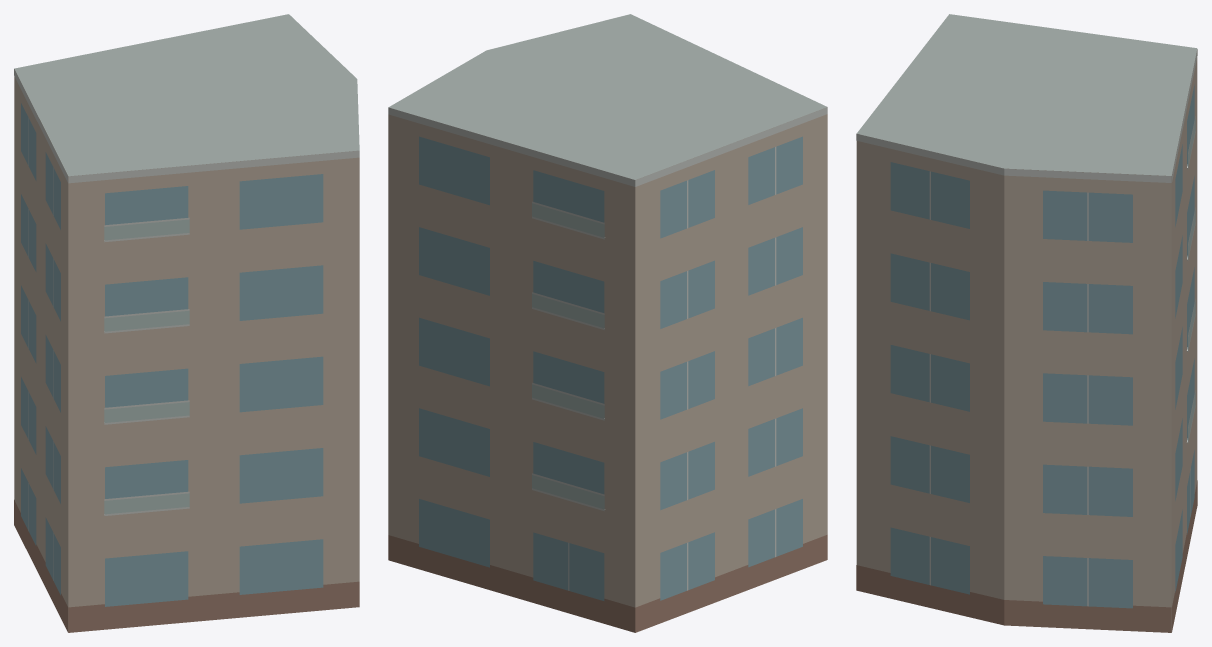
File: survey-upis-32941732.glb
3 views of the same model, side by side, from view 1: azimuth 30°, elevation 25°; view 2: azimuth 150°, elevation 25°; view 3: azimuth 270°, elevation 25° (orthographic).
Visible parts, largest first — view 1: survey-upis-32941732.tmp; view 2: survey-upis-32941732.tmp; view 3: survey-upis-32941732.tmp.
Boxes of the visible parts, bbox=[...] form: survey-upis-32941732.tmp: bbox=[14, 14, 359, 632]; survey-upis-32941732.tmp: bbox=[388, 14, 827, 632]; survey-upis-32941732.tmp: bbox=[856, 14, 1197, 632].
Size of the model in its own units: 12.03 by 15.8 by 10.7.
